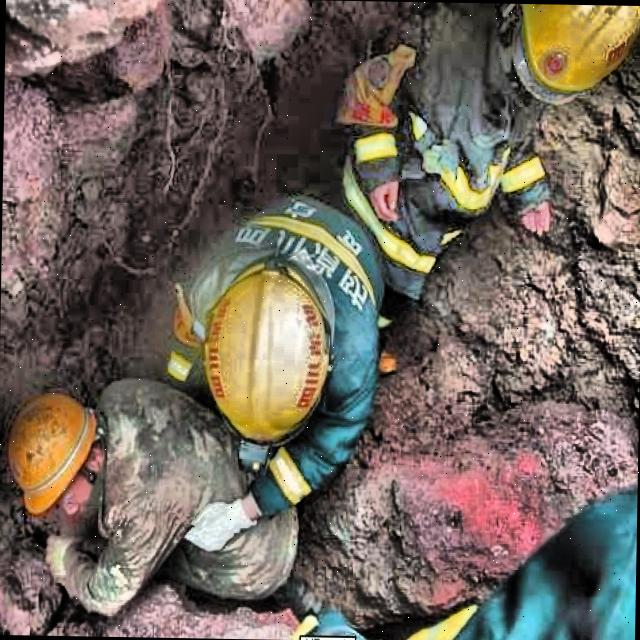helmet: (198, 253, 332, 448), (490, 5, 640, 107), (3, 392, 102, 518)
